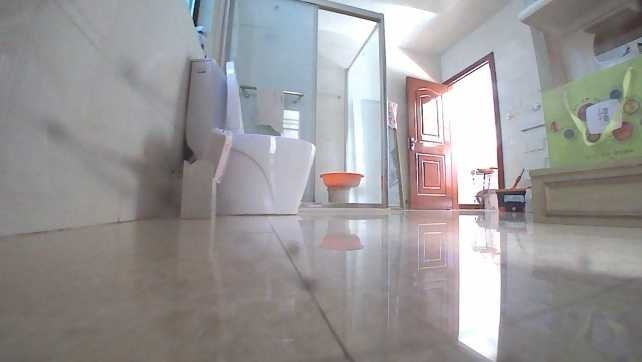door_anno: (404, 73, 460, 209)
toilet: (180, 55, 316, 215)
